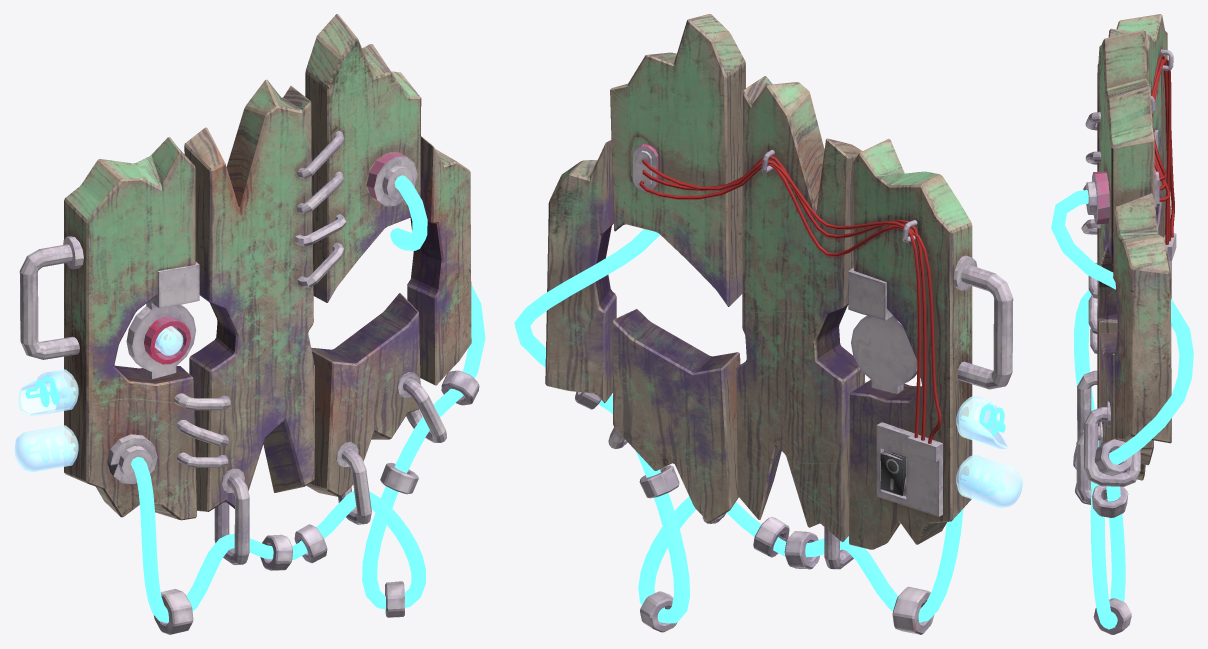
Rendered from method-mask.glb.
3 renders of one model, left to right at view 1: azimuth 30°, elevation 25°; view 2: azimuth 150°, elevation 25°; view 3: azimuth 270°, elevation 25°, orthographic. The views are drawn at different scales.
Parts seen in each view (by area): view 1: Cube_WOOD_0, tooth_ring.004_STEEL_0, BezierCurve.005_NEON_0, Cylinder.008_GLASS_0; view 2: Cube_WOOD_0, tooth_ring.004_STEEL_0, BezierCurve.005_NEON_0, BezierCurve.004_WIRE_0, Cylinder.008_GLASS_0; view 3: Cube_WOOD_0, BezierCurve.005_NEON_0, tooth_ring.004_STEEL_0, BezierCurve.004_WIRE_0.
Part boxes in pixels (<box>): Cube_WOOD_0: <box>64,14,471,520</box>; tooth_ring.004_STEEL_0: <box>19,131,479,634</box>; BezierCurve.005_NEON_0: <box>25,175,485,622</box>; Cylinder.008_GLASS_0: <box>14,326,183,472</box>; Cube_WOOD_0: <box>545,14,972,549</box>; tooth_ring.004_STEEL_0: <box>575,144,1013,634</box>; BezierCurve.005_NEON_0: <box>514,229,1005,623</box>; BezierCurve.004_WIRE_0: <box>639,156,941,443</box>; Cylinder.008_GLASS_0: <box>956,396,1022,508</box>; Cube_WOOD_0: <box>1097,14,1171,480</box>; BezierCurve.005_NEON_0: <box>1051,190,1193,629</box>; tooth_ring.004_STEEL_0: <box>1073,49,1176,634</box>; BezierCurve.004_WIRE_0: <box>1151,55,1174,244</box>.
Size of the model in its own units: 944 by 1158 by 257.
5 materials, 3 textured.
